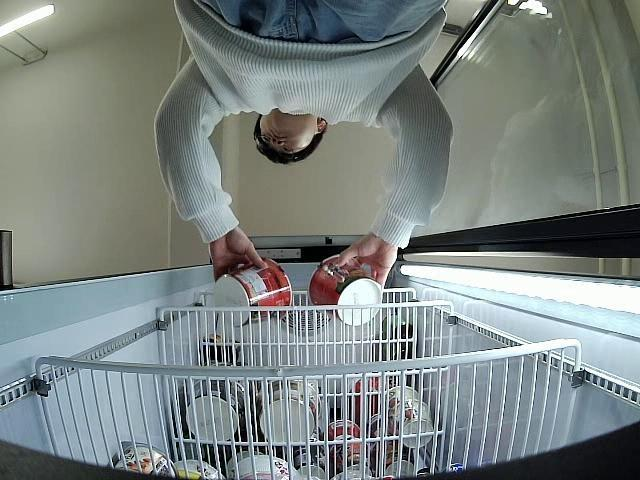01_ShinRamen_L: (306, 255, 382, 326), (214, 261, 292, 327)
